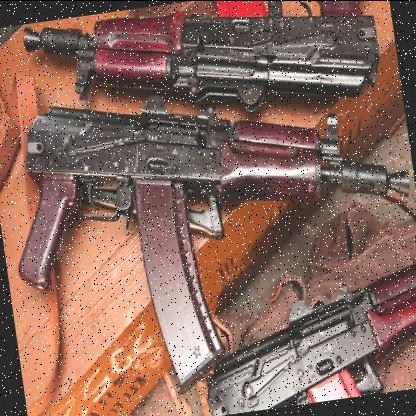rifle: (9, 52, 416, 352), (13, 0, 391, 175), (179, 259, 416, 412)
